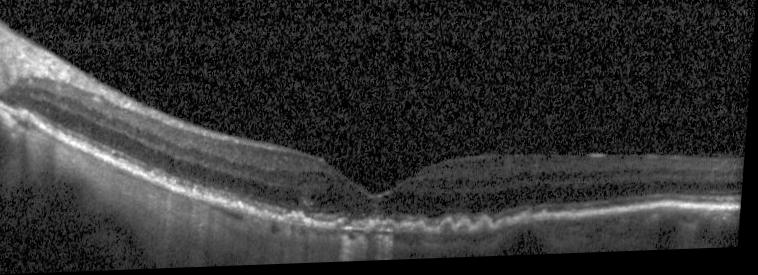retinal_drusen: (443, 224, 458, 238), (376, 228, 398, 235), (415, 226, 428, 237), (461, 224, 473, 235), (482, 223, 494, 234), (341, 221, 352, 232), (288, 215, 299, 224), (297, 218, 307, 227), (503, 223, 512, 232)
